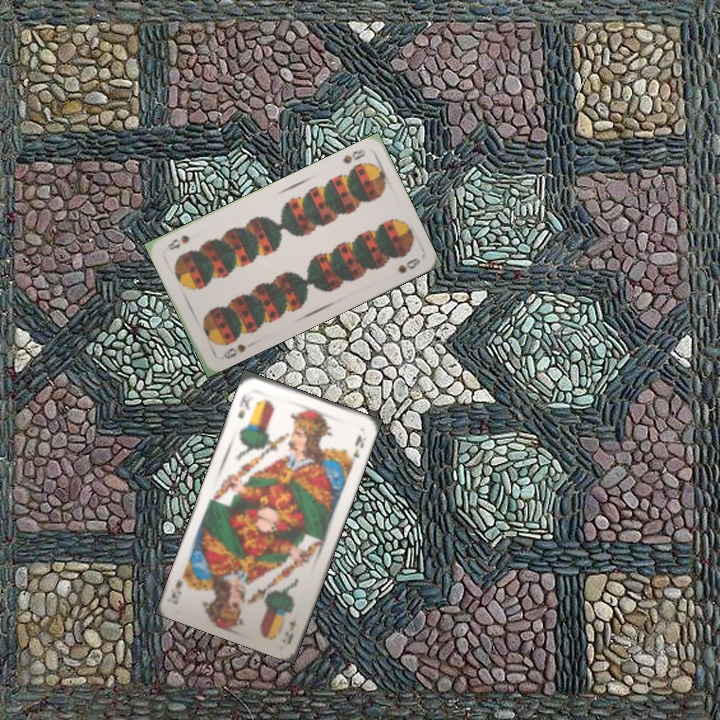EK: (233, 387, 257, 421), (281, 616, 299, 646)
S8: (217, 340, 248, 362), (338, 145, 368, 167)
